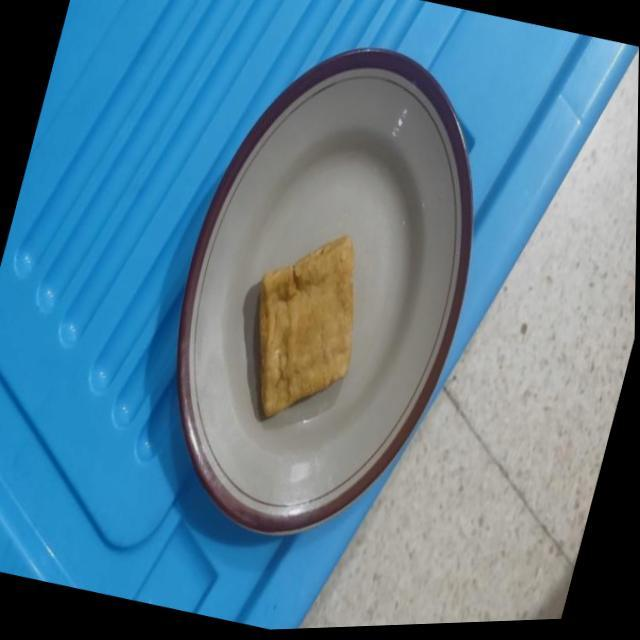tahu_goreng: (258, 236, 354, 417)
